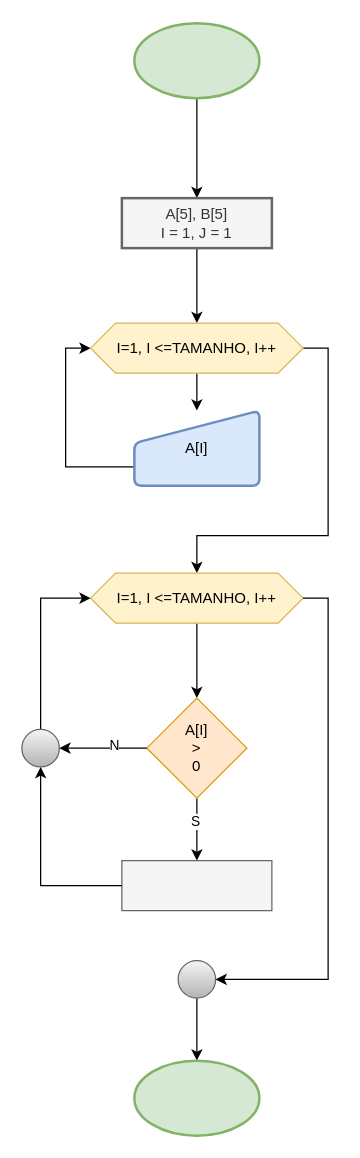
This 360x1158 diagram has some shape labels left out. Here are the shapes that lost their labels. From the top down, the centre of each, then its label:
the point at 196,60: INICIO
the point at 196,885: B[J] = A[I] J = J + 1
the point at 196,1097: FIM
